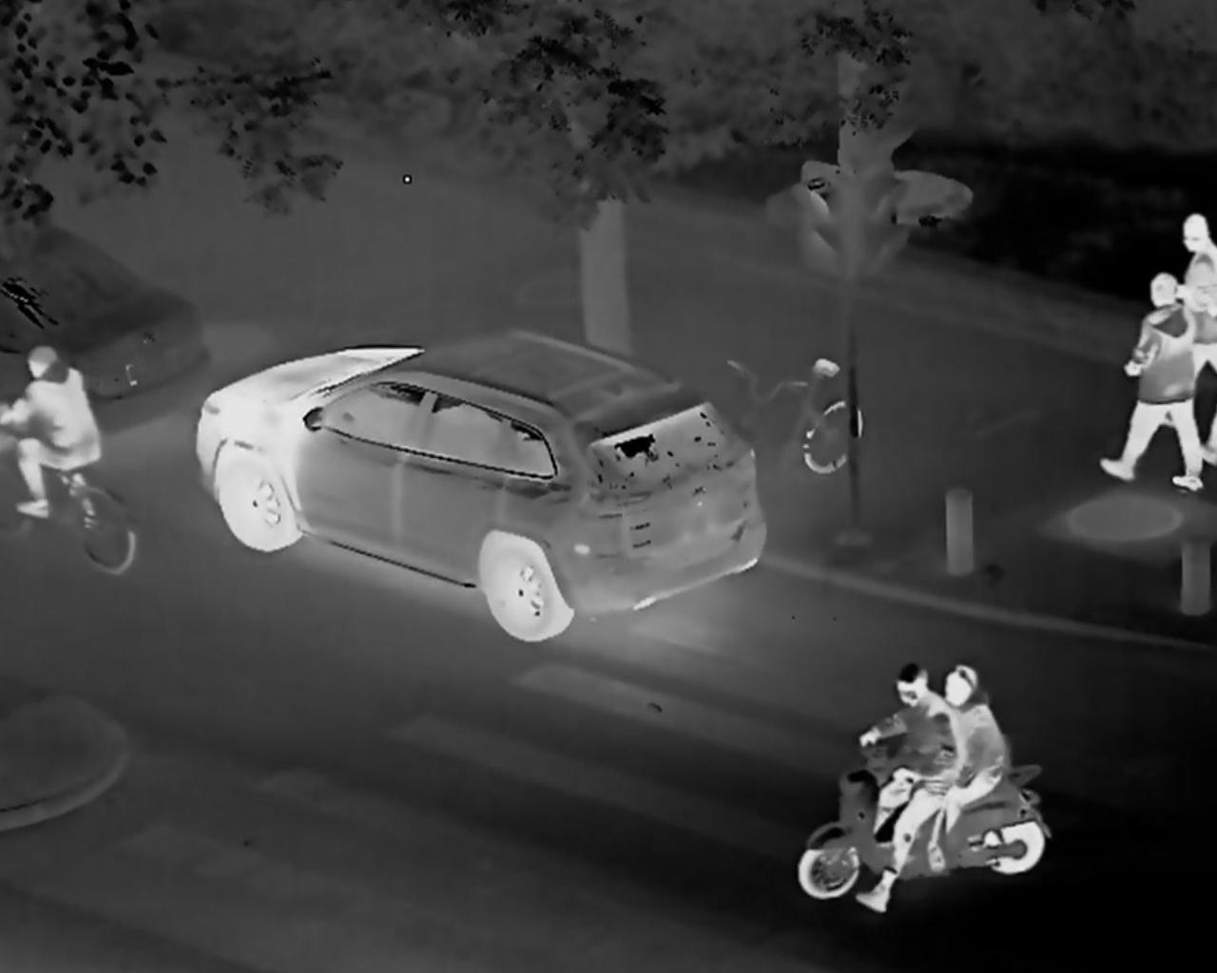person: (846, 664, 950, 912), (1098, 274, 1208, 487), (2, 344, 103, 528), (929, 668, 1008, 874), (1169, 214, 1216, 465)
